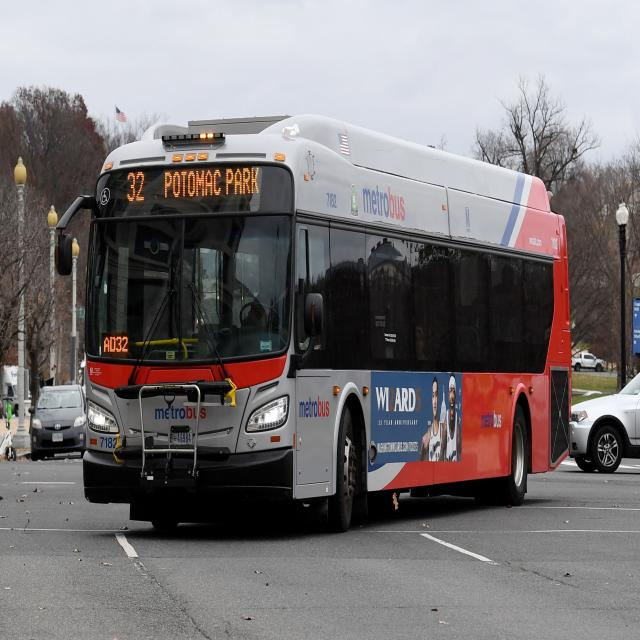bus: (74, 86, 568, 535)
car: (28, 370, 86, 460)
